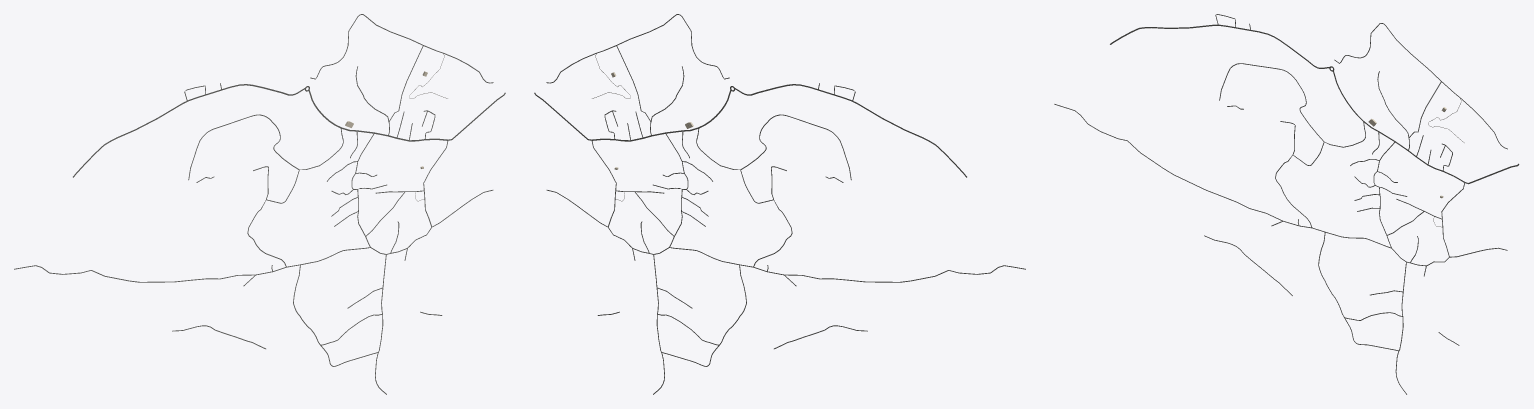
Rendered from historic-palestine-10_21_3515_3151.glb.
3 renders of one model, left to right at view 1: azimuth 30°, elevation 25°; view 2: azimuth 150°, elevation 25°; view 3: azimuth 330°, elevation 25°, orthographic. The views are drawn at different scales.
Parts seen in each view (by area): view 1: Road .017, Road .040, Road .029; view 2: Road .017, Road .040, Road .029; view 3: Road .017, Road .040, Road .029.
Boxes of the visible parts, x1,y1,x2,y2 form: Road .017: [14, 247, 369, 282]; Road .040: [73, 84, 305, 177]; Road .029: [308, 89, 505, 141]; Road .017: [669, 247, 1025, 282]; Road .040: [734, 84, 966, 177]; Road .029: [534, 90, 731, 141]; Road .017: [1054, 104, 1391, 248]; Road .040: [1110, 24, 1330, 68]; Road .029: [1333, 70, 1519, 184].
Bounding box in the file's own units: 1930 × 1452 × 8.7.
